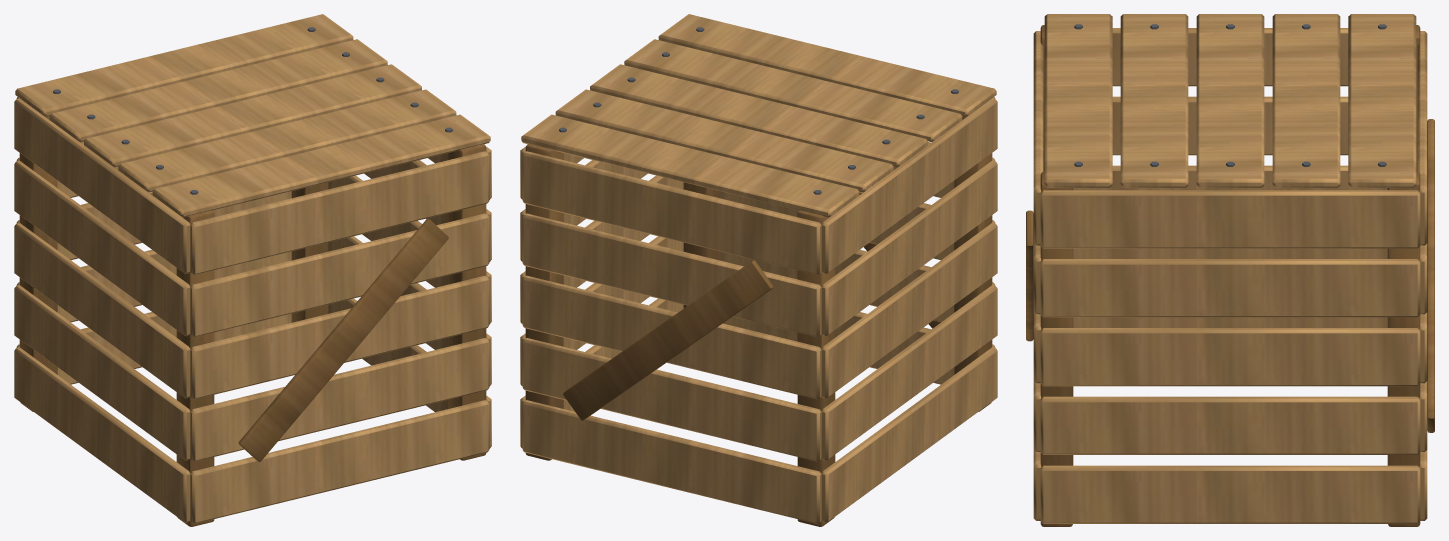
The model's file is caixote.glb.
3 views of the same model, side by side, from view 1: azimuth 30°, elevation 25°; view 2: azimuth 150°, elevation 25°; view 3: azimuth 270°, elevation 25° (orthographic). The views are drawn at different scales.
Visible parts, largest first — view 1: ripa.008, ripa, ripa.006, ripa.002, ripa.004, tampa, tampa.002, tampa.001, tampa.003, tampa.004, ripa-lado, ripa-lado.004 (+15 smaller); view 2: ripa.009, ripa.001, ripa.007, ripa.003, ripa.005, tampa.004, tampa.002, tampa.001, tampa.003, tampa, ripa-lado, ripa-lado.004 (+15 smaller); view 3: ripa-lado.001, ripa-lado.003, ripa-lado.005, ripa-lado.007, ripa-lado.009, tampa.001, tampa.003, tampa, tampa.004, tampa.002, ripa-lado, ripa-lado.002 (+17 smaller).
Boxes of the visible parts, bbox=[...] form: ripa.008: bbox=[190, 151, 489, 274]; ripa: bbox=[190, 400, 489, 523]; ripa.006: bbox=[190, 213, 489, 337]; ripa.002: bbox=[190, 338, 489, 461]; ripa.004: bbox=[190, 275, 489, 399]; tampa: bbox=[152, 114, 490, 217]; tampa.002: bbox=[84, 64, 421, 167]; tampa.001: bbox=[118, 89, 456, 192]; tampa.003: bbox=[49, 39, 387, 142]; tampa.004: bbox=[15, 14, 353, 117]; ripa-lado: bbox=[14, 347, 190, 522]; ripa-lado.004: bbox=[14, 223, 190, 398]; ripa.009: bbox=[522, 151, 821, 274]; ripa.001: bbox=[522, 400, 821, 523]; ripa.007: bbox=[522, 213, 821, 337]; ripa.003: bbox=[522, 338, 821, 461]; ripa.005: bbox=[522, 275, 821, 399]; tampa.004: bbox=[521, 114, 859, 217]; tampa.002: bbox=[590, 64, 927, 167]; tampa.001: bbox=[624, 39, 962, 142]; tampa.003: bbox=[555, 89, 893, 192]; tampa: bbox=[658, 14, 996, 117]; ripa-lado: bbox=[821, 347, 997, 522]; ripa-lado.004: bbox=[821, 223, 997, 398]; ripa-lado.001: bbox=[1040, 465, 1420, 523]; ripa-lado.003: bbox=[1040, 396, 1420, 454]; ripa-lado.005: bbox=[1040, 328, 1420, 386]; ripa-lado.007: bbox=[1040, 259, 1420, 317]; ripa-lado.009: bbox=[1040, 190, 1420, 248]; tampa.001: bbox=[1120, 14, 1188, 187]; tampa.003: bbox=[1272, 14, 1340, 187]; tampa: bbox=[1044, 14, 1112, 187]; tampa.004: bbox=[1348, 14, 1416, 187]; tampa.002: bbox=[1196, 14, 1264, 187]; ripa-lado: bbox=[1073, 317, 1387, 327]; ripa-lado.002: bbox=[1073, 248, 1387, 258].
Bounding box in the file's own units: 0.73 × 0.719 × 0.754.
Materials: 3 (2 with a texture image).
